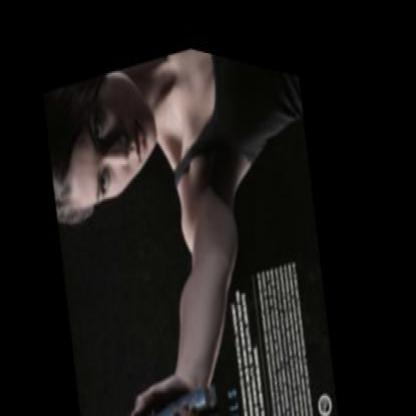pistol: (101, 320, 247, 413)
